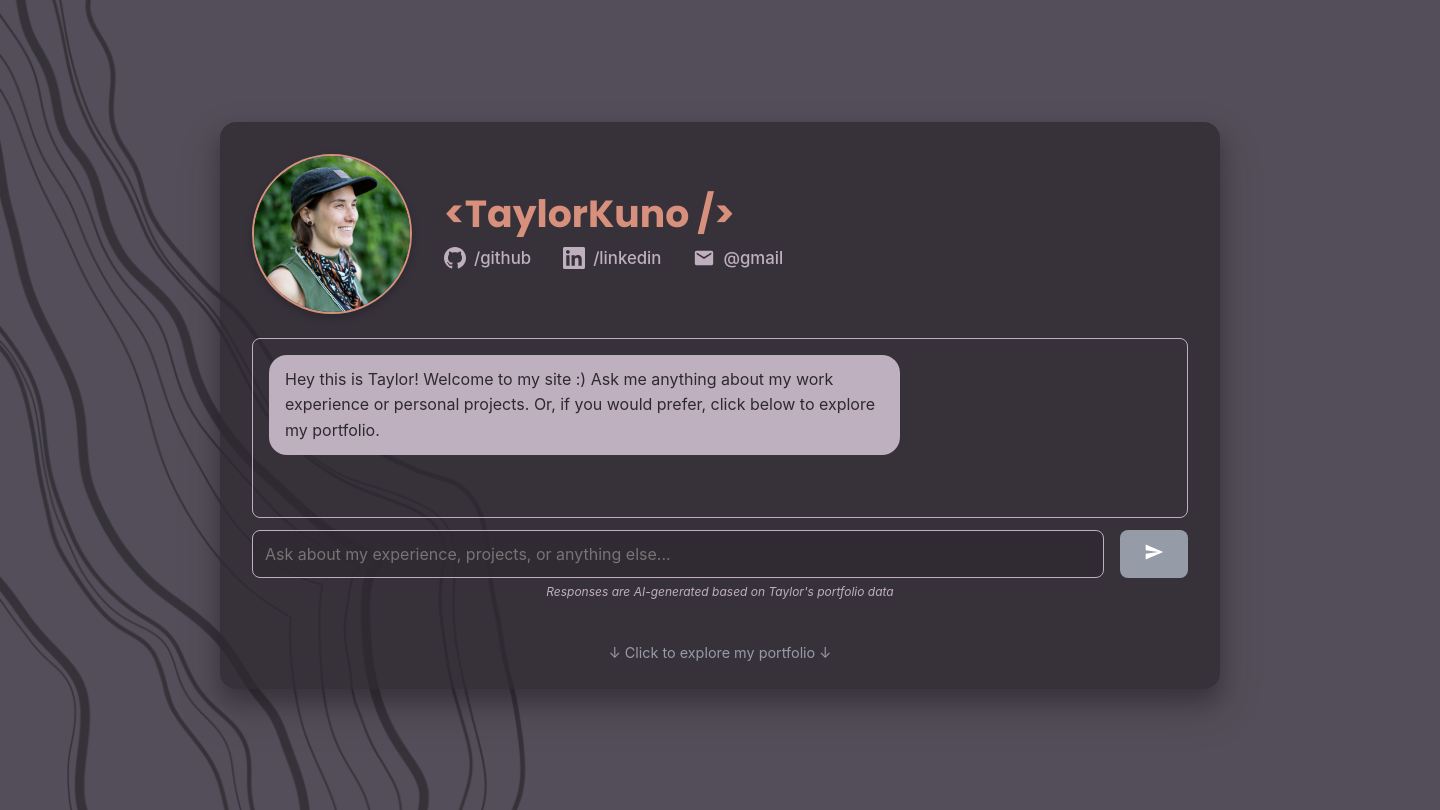
Test: Message Sending › clicking send button adds message to chat
Type a message
Step 1. Type "Hello from test" into the field with placeholder "Ask about my experience, projects, or anything else..." → (678,554), box [252,530,1104,578]
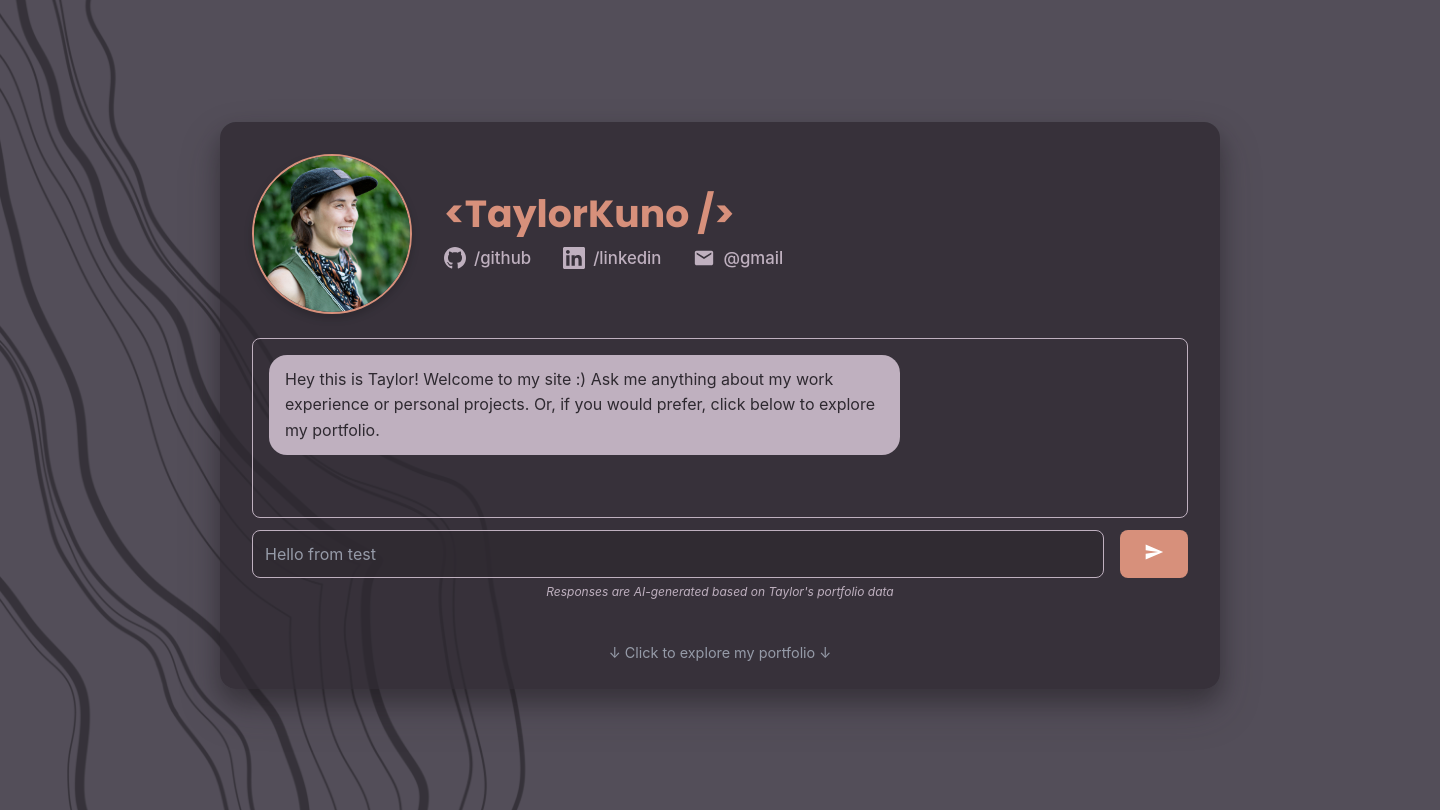
Click send button
Step 2. Click the button → (1154,554), box [1120,530,1188,578]
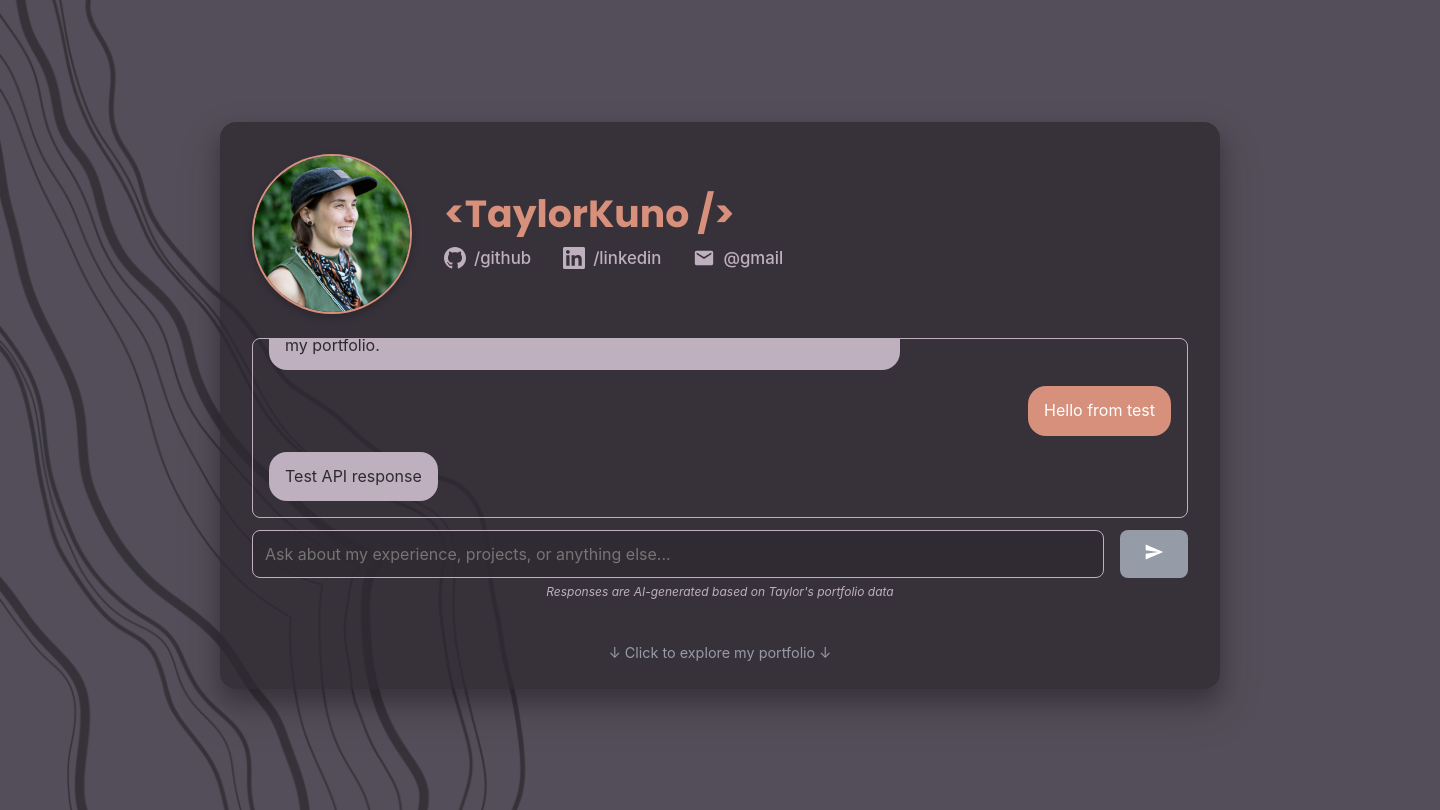
Expected: the text "Hello from test" is shown, [1028,386,1171,436]
